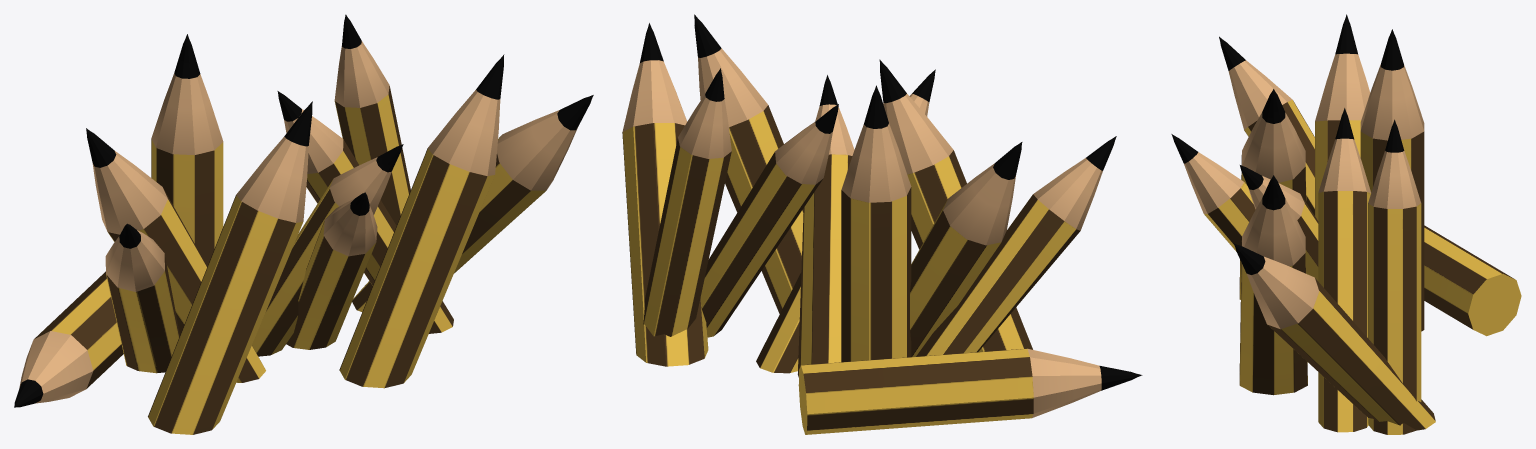
File: group_of_pencils.fbx
3 renders of one model, left to right at view 1: azimuth 30°, elevation 25°; view 2: azimuth 150°, elevation 25°; view 3: azimuth 270°, elevation 25°, orthographic. The views are drawn at different scales.
Visible parts, largest first — view 1: group_of_pencils; view 2: group_of_pencils; view 3: group_of_pencils.
Part boxes in pixels (bbox=[...]): group_of_pencils: bbox=[14, 14, 593, 434]; group_of_pencils: bbox=[622, 14, 1142, 434]; group_of_pencils: bbox=[1171, 14, 1521, 434].
Bounding box in the file's own units: 26.81 × 15.14 × 16.19.
